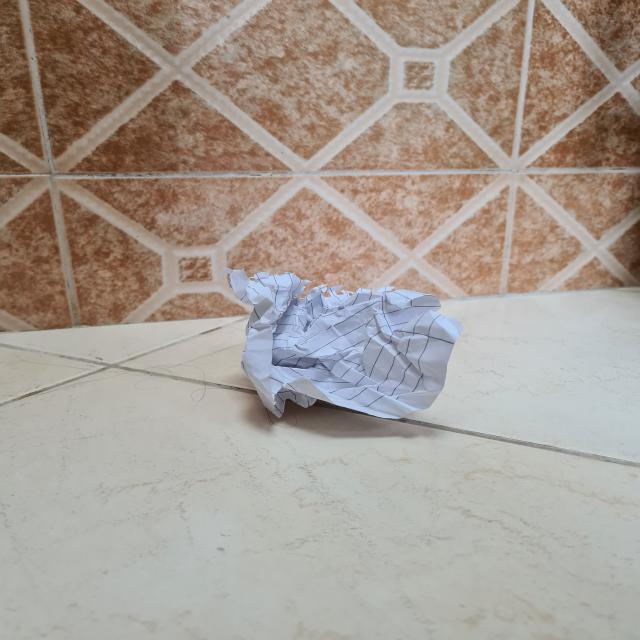Paper: (236, 271, 466, 423)
